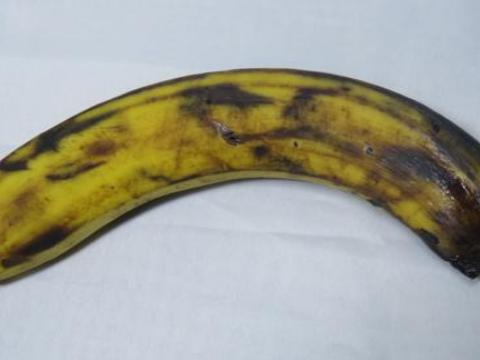overripe: (6, 63, 479, 300)
rotten: (366, 118, 479, 303)
